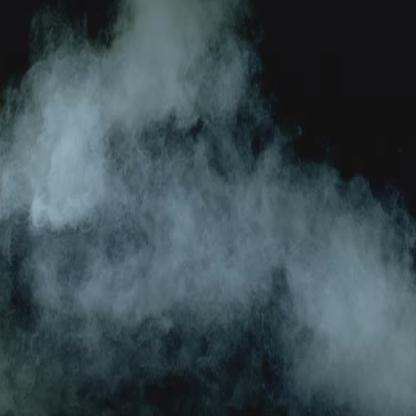smoke: (0, 0, 270, 365), (272, 170, 416, 414)
